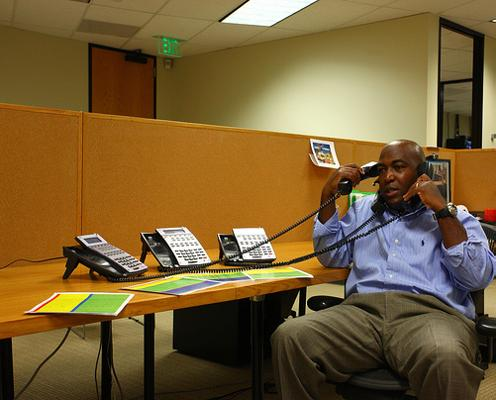person: (271, 138, 496, 400)
